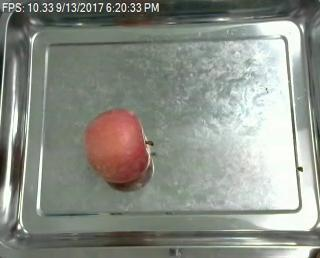apple: (85, 109, 151, 184)
